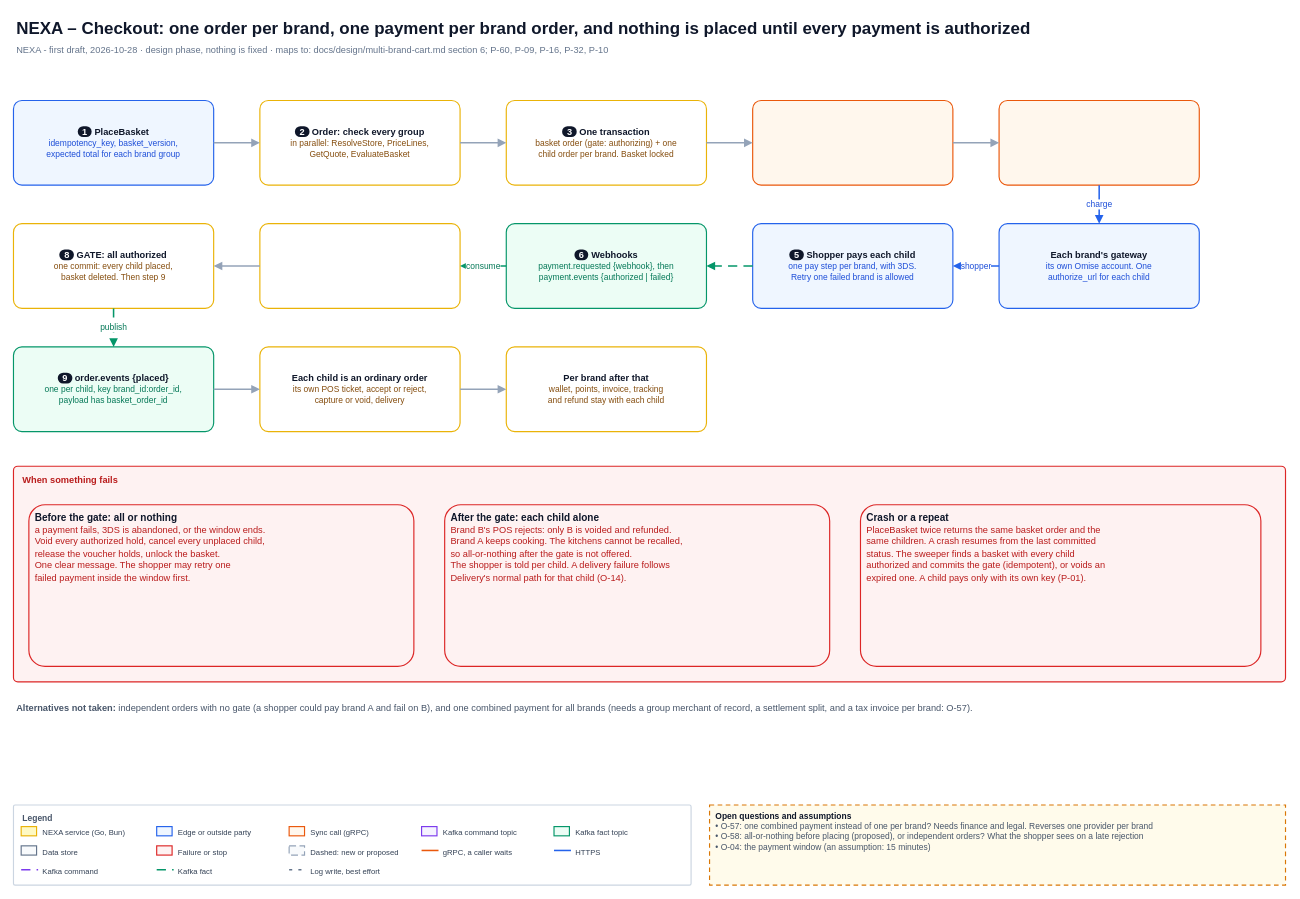
This 1300x899 diagram has some shape labels left out. The centre of each missing label's shape, as x and y in pixels:
"4 Payment per child CreateTransaction, key basket_order_id:brand_id:attempt" belongs at pixel 1099 142.
"7 Order marks each child authorized, as its event arrives. Nothing is placed yet" belongs at pixel 359 266.
"Voucher holds ReserveRedemptions for each child order, as in P-32" belongs at pixel 852 142.
